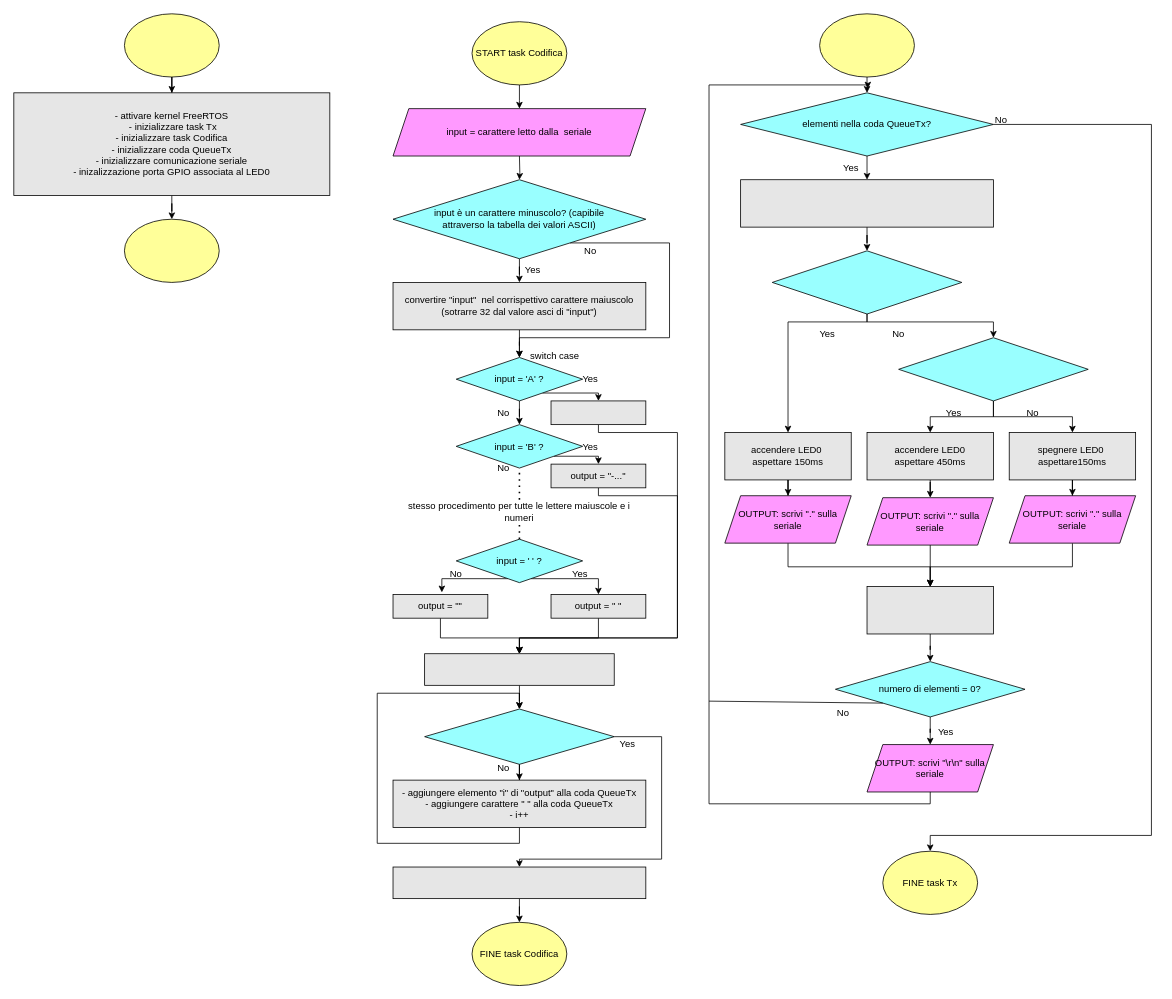
Image size: 1172x999. Some labels were removed from this diagram. The shapes that lost their labels are listed below. From the top down, each one's centre as x and y in pixels, then its label:
[171,45]: START
[866,45]: START task Tx
[866,203]: prelevare elemento dalla coda QueueTx
[171,250]: FINE
[866,282]: elemento = '.' ?
[993,369]: elemento = '-' ?
[598,412]: output = ".-"
[929,610]: contare elementi nella coda QueueTx
[519,669]: output = output + "," i = 0
[519,736]: elemento in posizione "i" di "output" è uguale a "," ?
[519,882]: aggiungere carattere " " alla coda QueueTx
